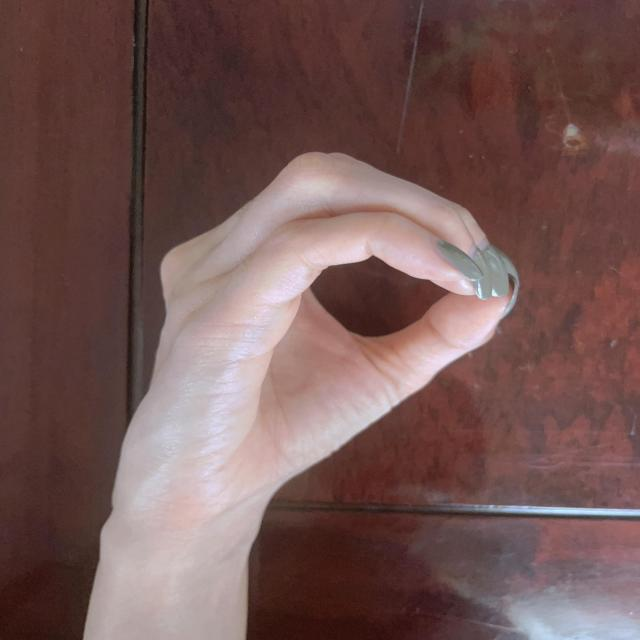O: (114, 149, 520, 495)
